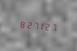eight: (17, 18, 23, 29)
one: (39, 20, 45, 31)
seven: (32, 19, 38, 30), (53, 21, 59, 32)
two: (24, 18, 30, 30), (46, 20, 52, 32)
